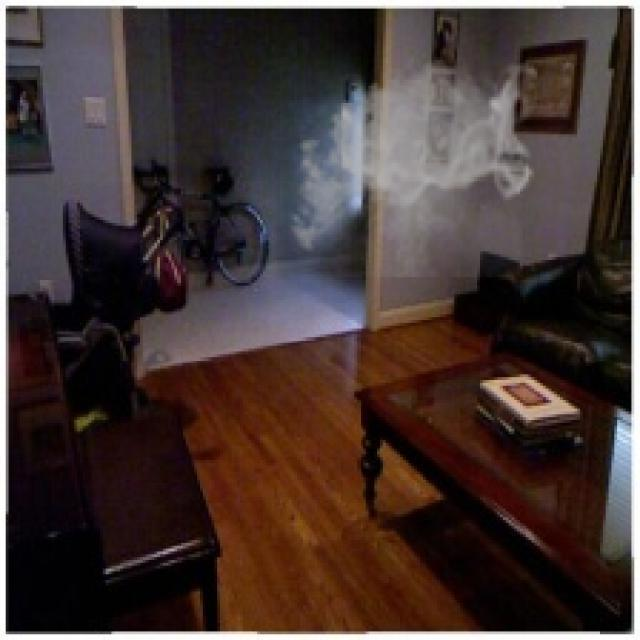Smoke: (282, 51, 538, 278)
